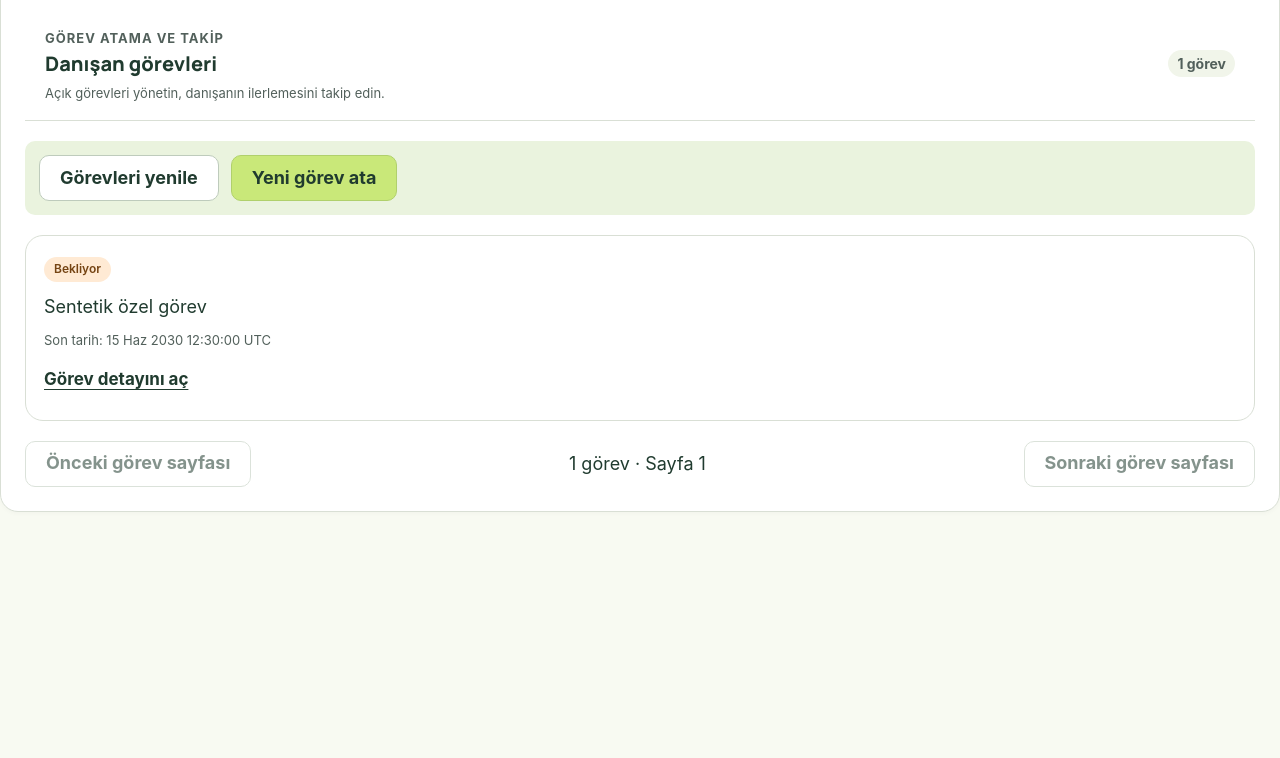
Test: React task assignment and tracking › edits the selected task, clears dueAt and only cancels after explicit confirmation
Expected: the text "Sentetik özel görev" is shown, top-left (44, 296), bottom-right (207, 317)
Step 1. Click the button "Görev detayını aç" → (116, 380), box top-left (44, 358), bottom-right (188, 402)
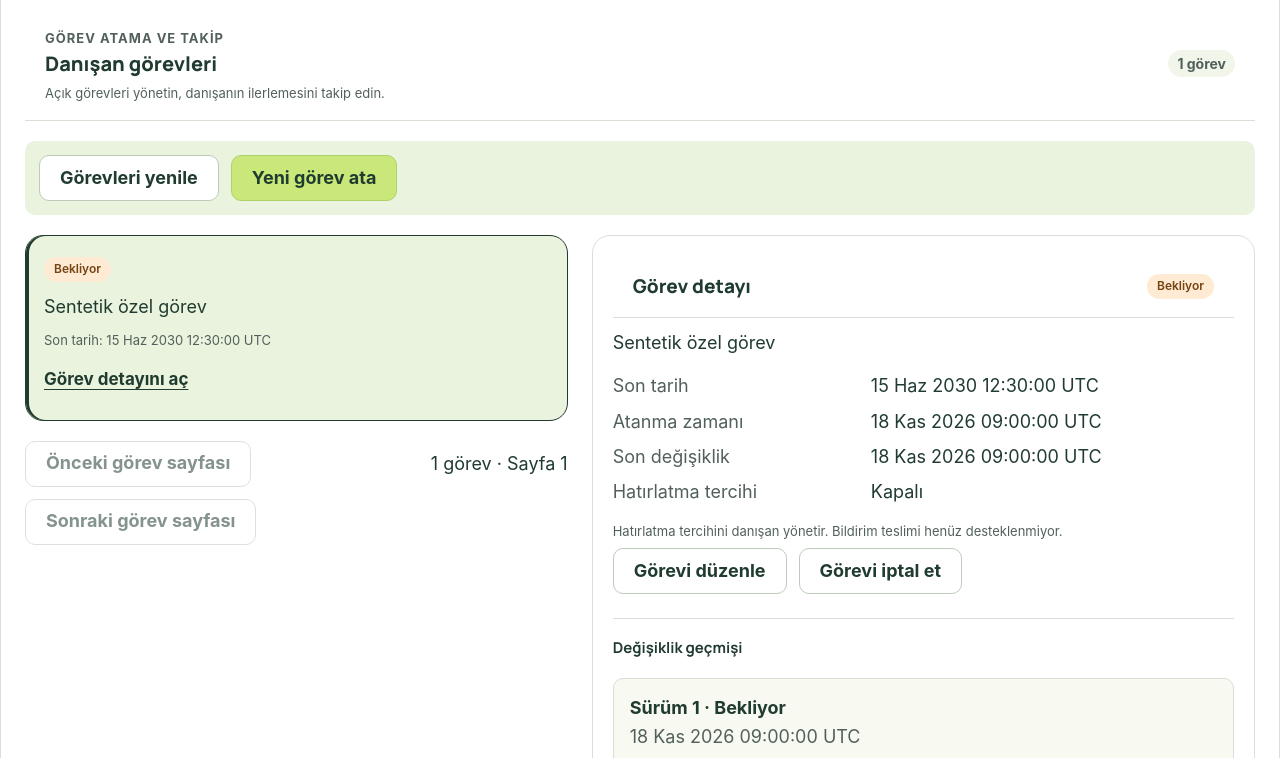
Step 2. Click the button "Görevi düzenle" → (700, 571), box top-left (613, 548), bottom-right (786, 594)
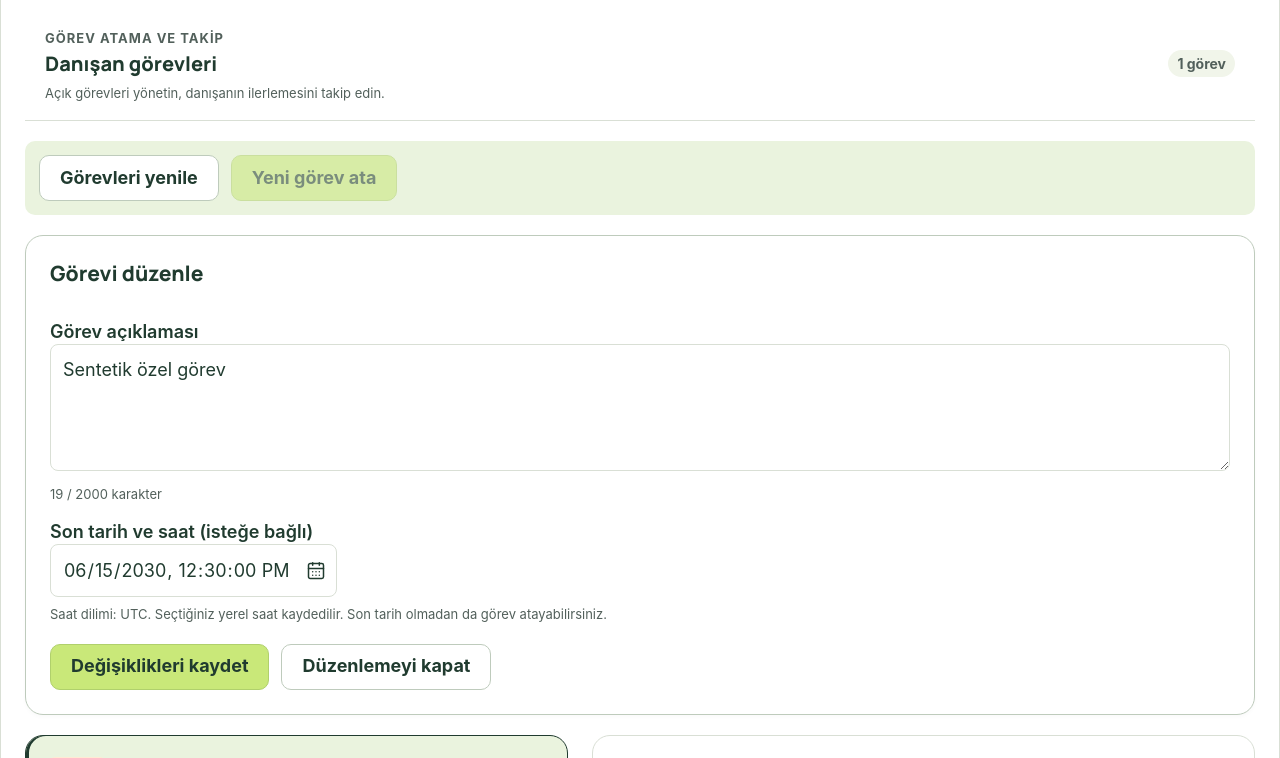
Step 3. Replace the text in the text box labelled "Görev açıklaması" with "Yeni açıklama" → (640, 407), box top-left (50, 344), bottom-right (1230, 471)
Step 4. Clear the field labelled "Son tarih ve saat (isteğe bağlı)" → (194, 571), box top-left (50, 544), bottom-right (337, 597)
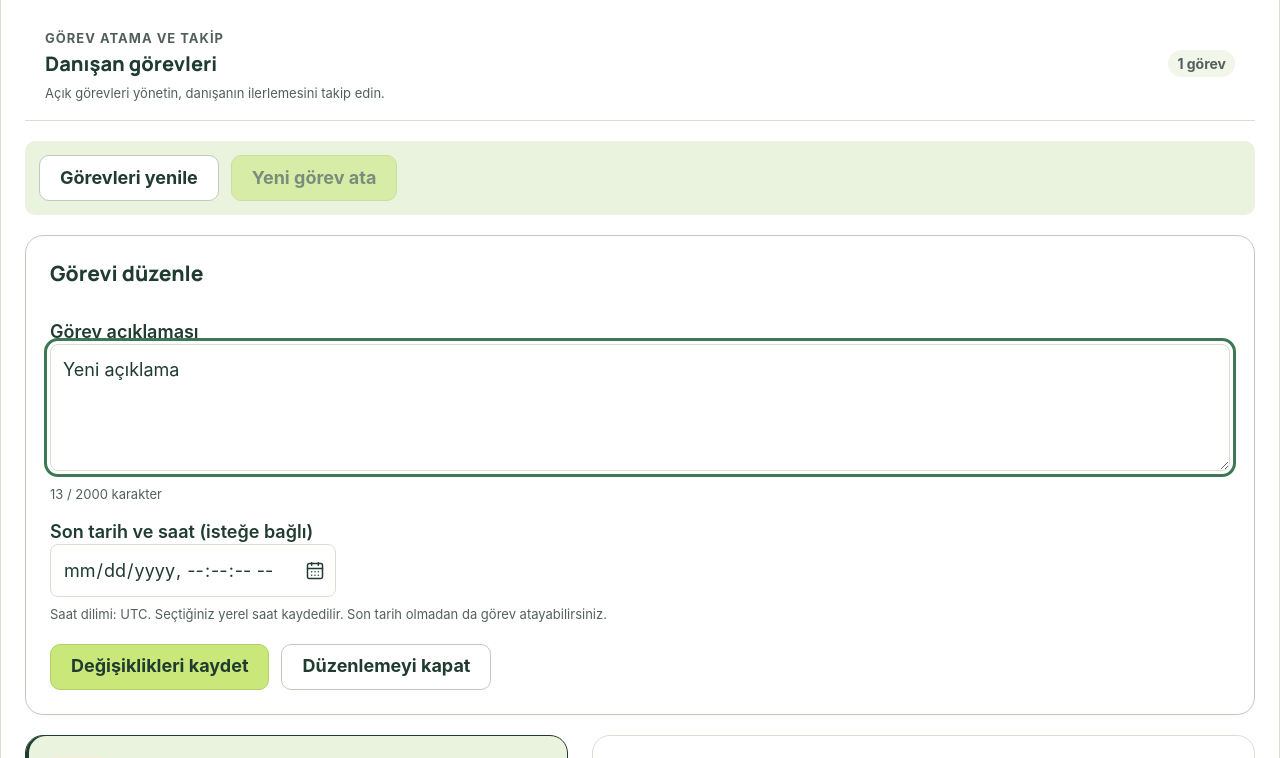
Step 5. Click the button "Değişiklikleri kaydet" → (160, 666), box top-left (50, 644), bottom-right (270, 690)
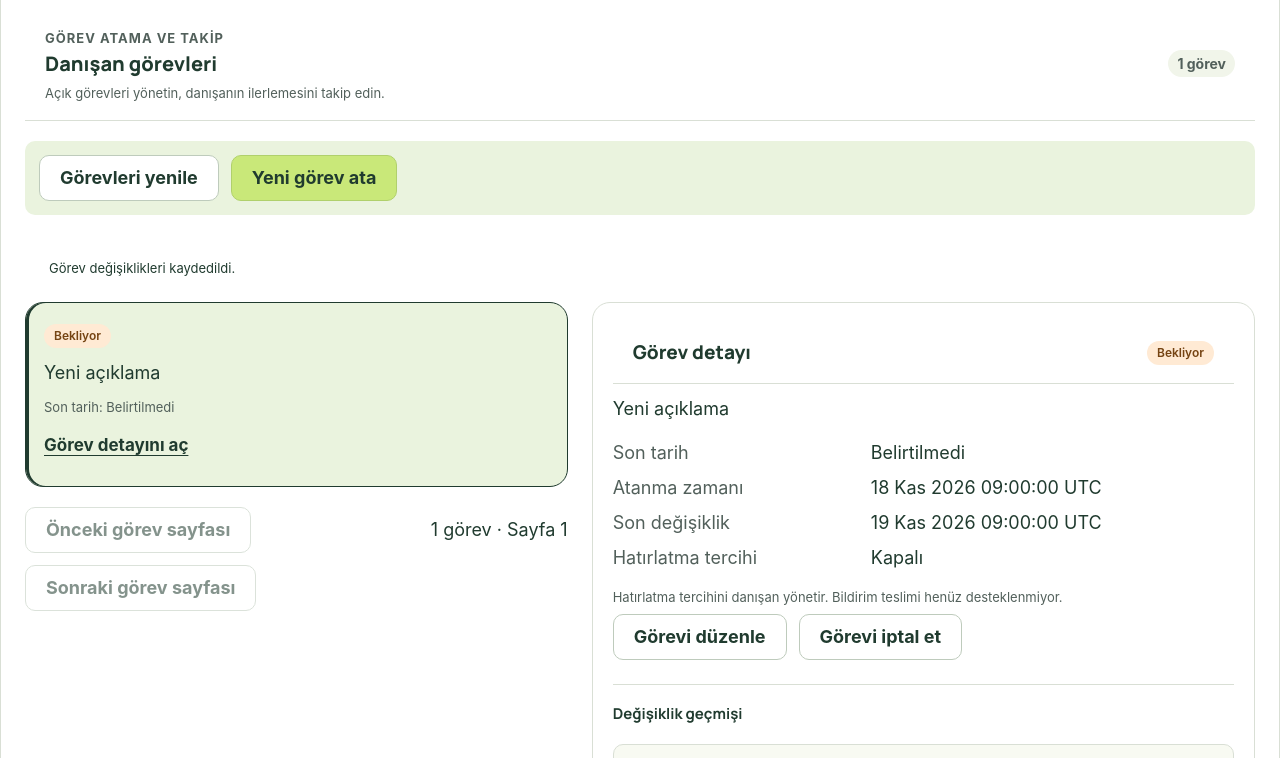
Result: the text "Görev değişiklikleri kaydedildi." is shown at top-left (49, 260), bottom-right (235, 276)
Step 6. Click the button "Görevi iptal et" → (880, 638), box top-left (798, 614), bottom-right (962, 660)
(page scrolled)
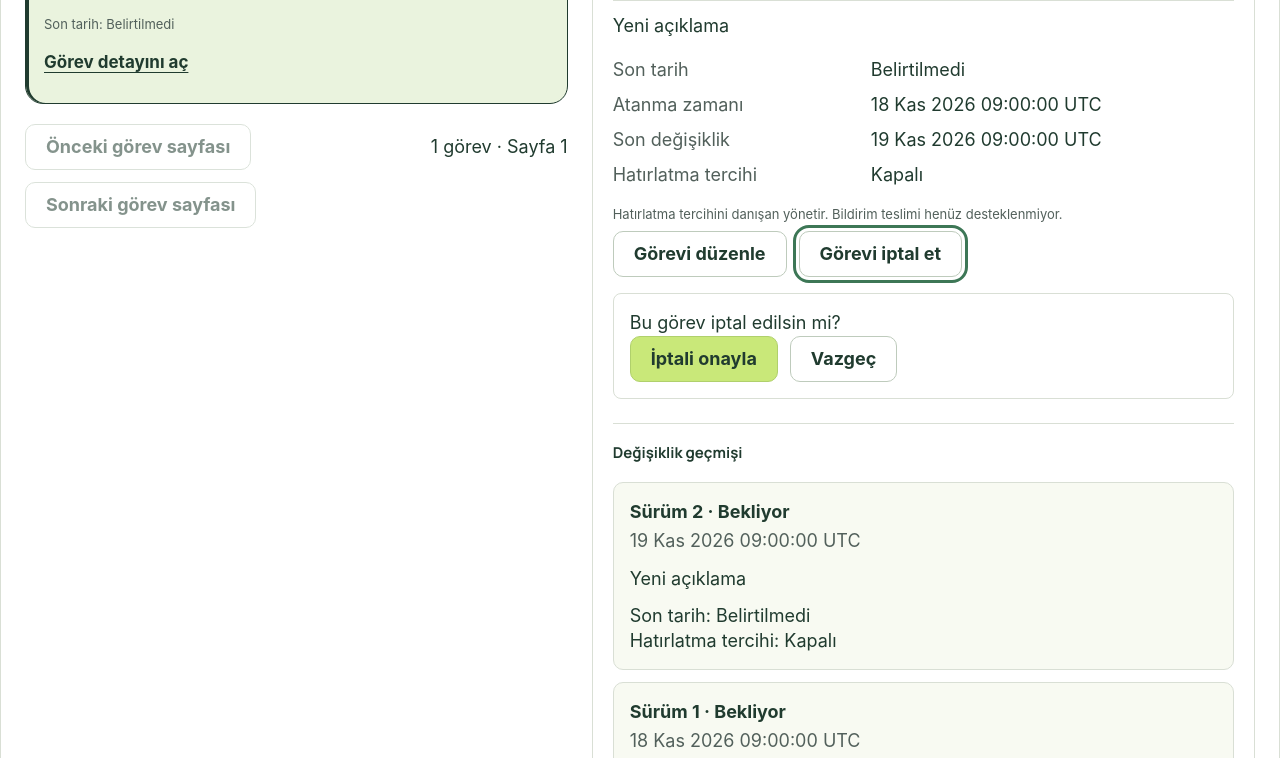
Step 7. Click the button "İptali onayla" → (704, 359), box top-left (630, 336), bottom-right (778, 382)
(page scrolled)
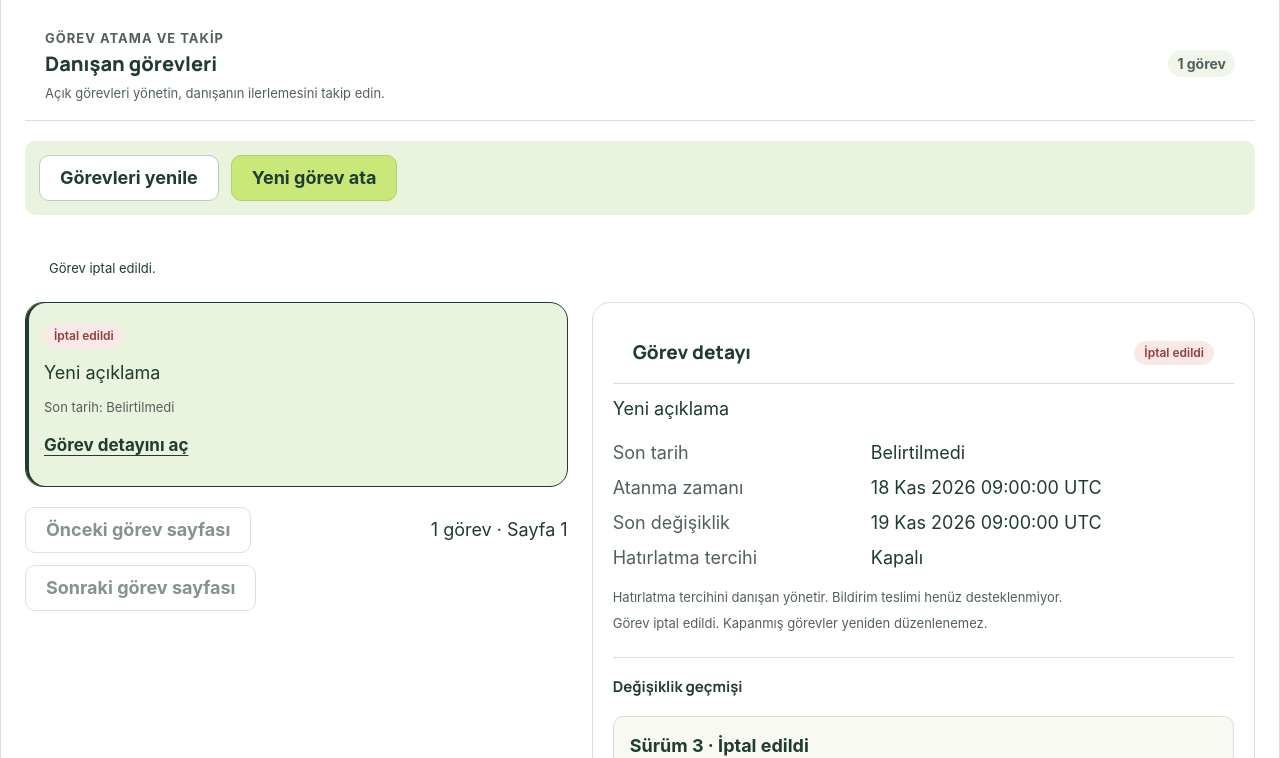
Result: the text "Görev iptal edildi." is shown at top-left (49, 260), bottom-right (156, 276)
